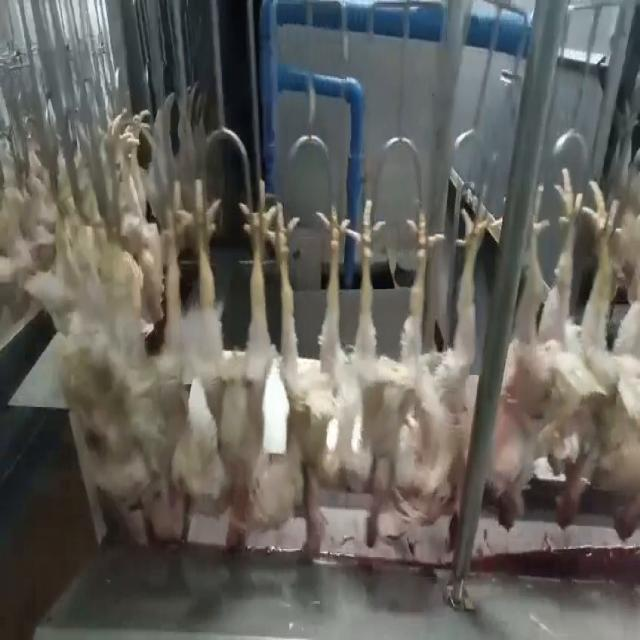chicken: (486, 175, 600, 529), (340, 204, 432, 555), (395, 201, 483, 543), (265, 203, 346, 567), (112, 171, 190, 540), (191, 179, 265, 551), (600, 186, 640, 543), (76, 188, 114, 512)
